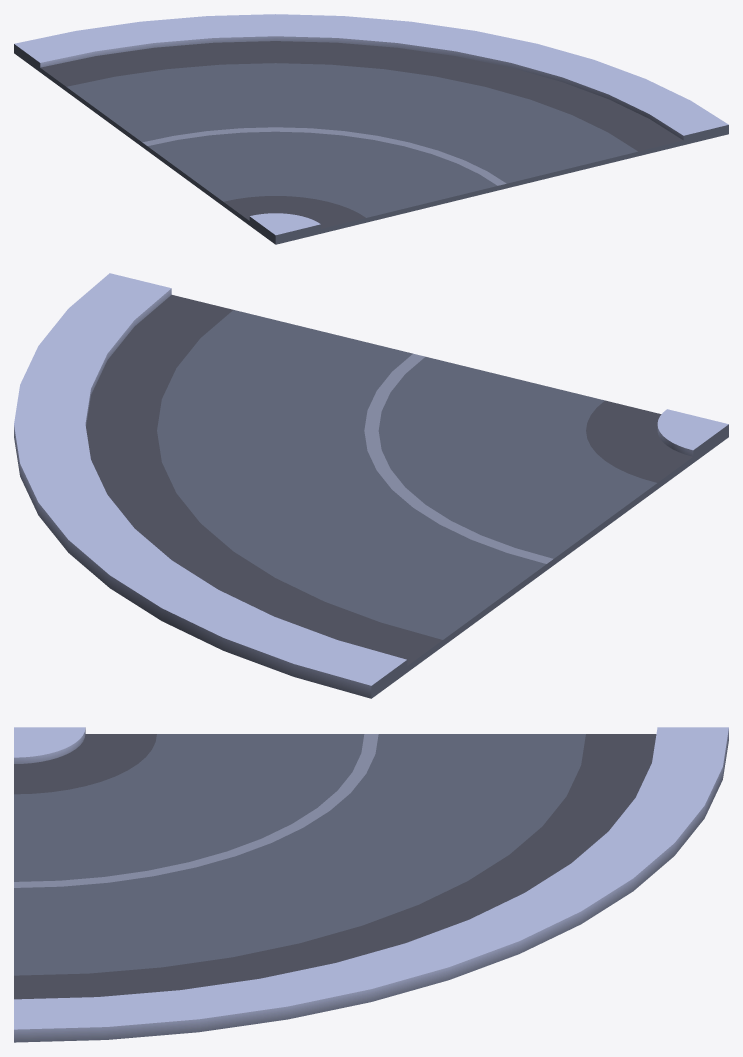
The model's file is road-bend.glb.
3 views of the same model, one above another, from view 1: azimuth 30°, elevation 25°; view 2: azimuth 150°, elevation 25°; view 3: azimuth 270°, elevation 25° (orthographic). The views are drawn at different scales.
Visible parts, largest first — view 1: road-bend; view 2: road-bend; view 3: road-bend.
Boxes of the visible parts, x1,y1,x2,y2 form: road-bend: (14,14,728,244); road-bend: (14,273,728,698); road-bend: (14,727,728,1042).
Bounding box in the file's own units: 1 × 0.02 × 1.
Materials: 1 (1 with a texture image).
